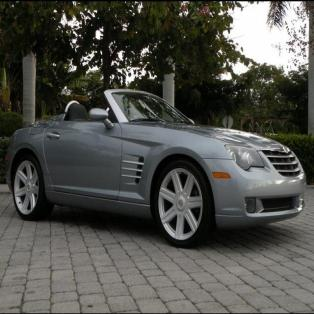Auto: (6, 88, 307, 248)
